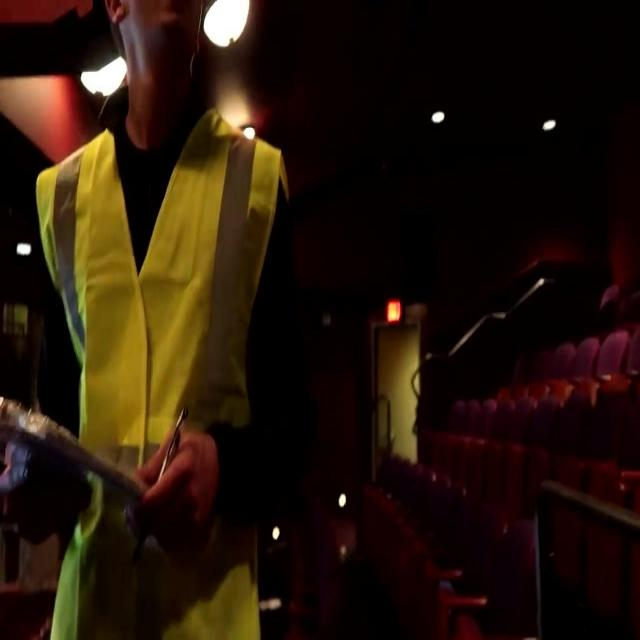Reflective-Jacket: (30, 105, 300, 640)
